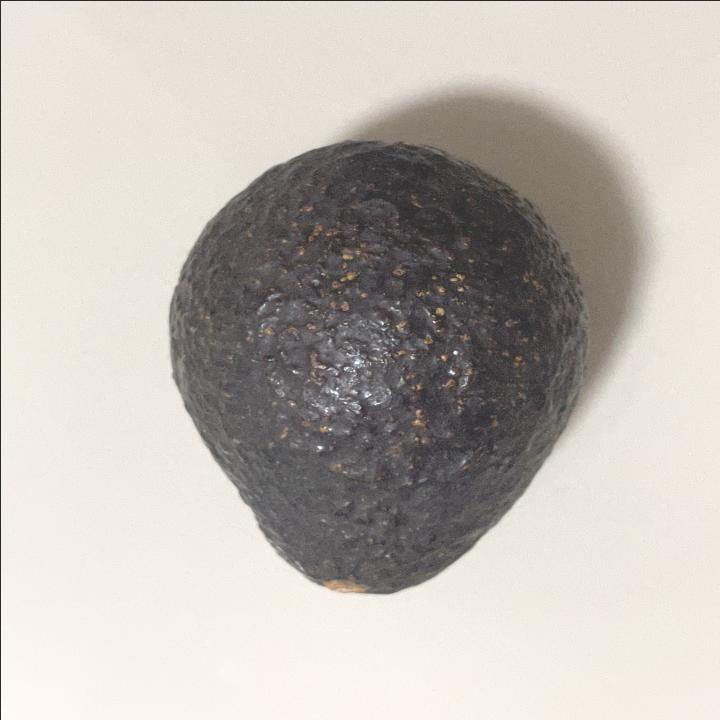Level3: (155, 131, 603, 606)
